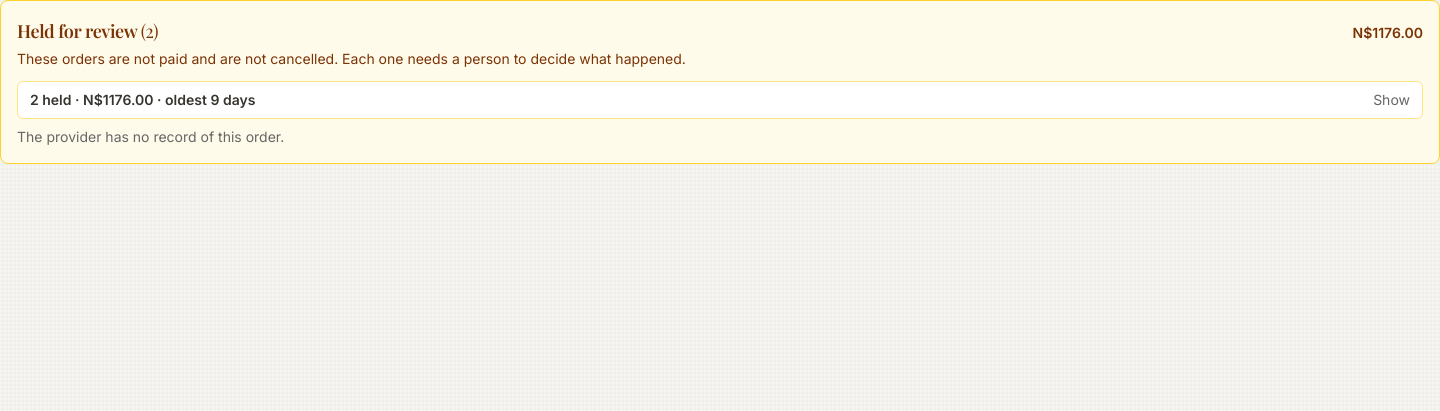
Scenario: the per-order override › renders one control per order, with the signed label
Step 1. Click the button "2 held · N$1176.00 · oldest 9 days Show" → (61, 100), box left=17, top=81, right=1423, bottom=119
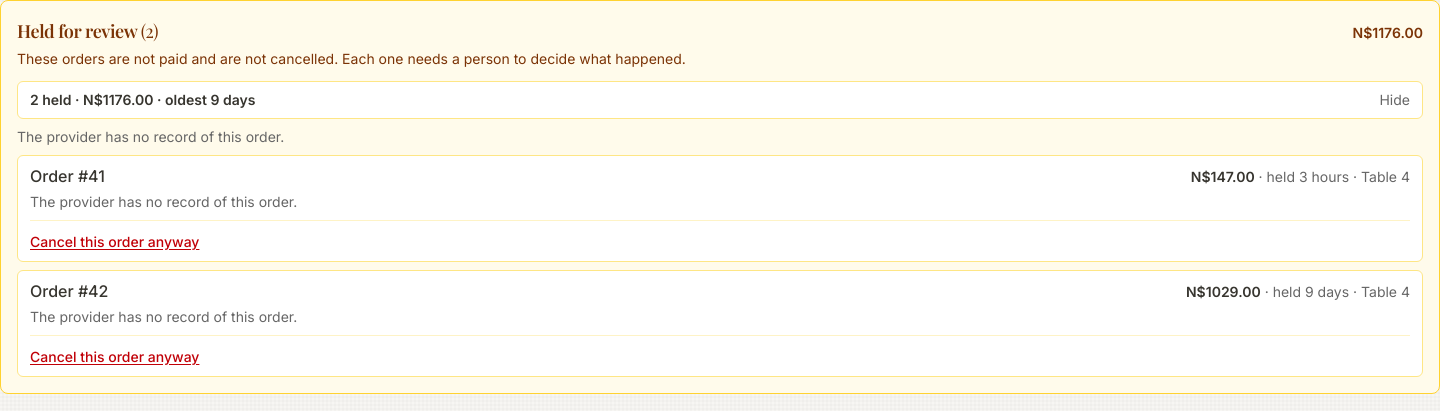
Result: the button "Cancel this order anyway" below "Order #41" is shown at left=30, top=232, right=199, bottom=252
